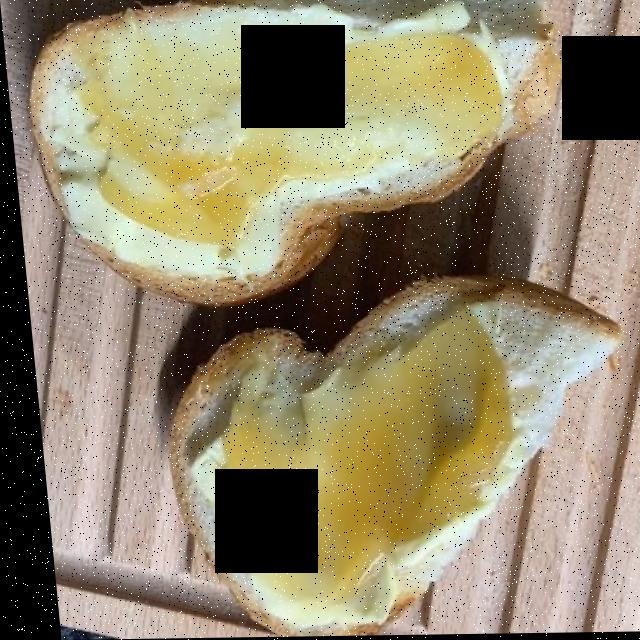braided-white-loaf: (16, 0, 606, 627)
butter: (45, 5, 494, 620)
honey: (71, 23, 511, 591)
